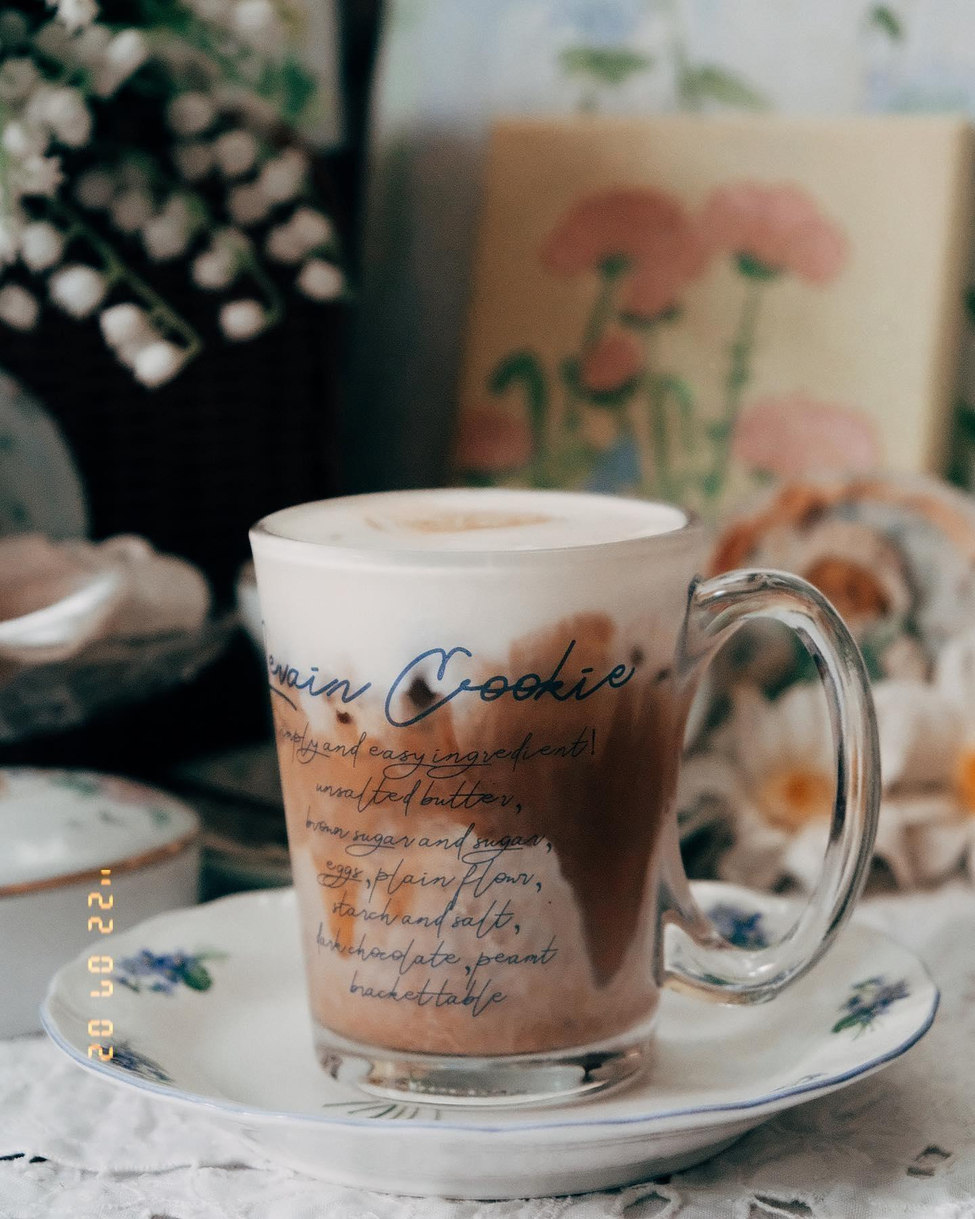glass-mug: (240, 490, 888, 1119)
